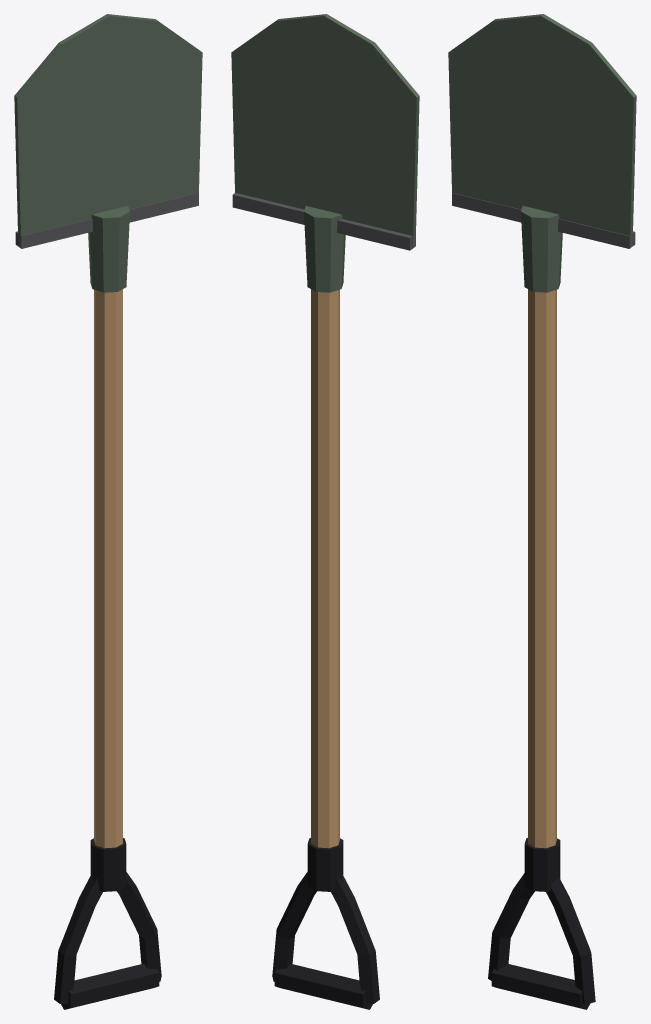
Rendered from shovel.glb.
3 renders of one model, left to right at view 1: azimuth 30°, elevation 25°; view 2: azimuth 150°, elevation 25°; view 3: azimuth 330°, elevation 25°, orthographic.
Visible parts, largest first — view 1: shovel; view 2: shovel; view 3: shovel.
Boxes of the visible parts, x1=… form: shovel: x1=14, y1=14, x2=202, y2=1009; shovel: x1=231, y1=14, x2=419, y2=1009; shovel: x1=448, y1=14, x2=636, y2=1009.
Bounding box in the file's own units: 0.23 × 1.17 × 0.048.
